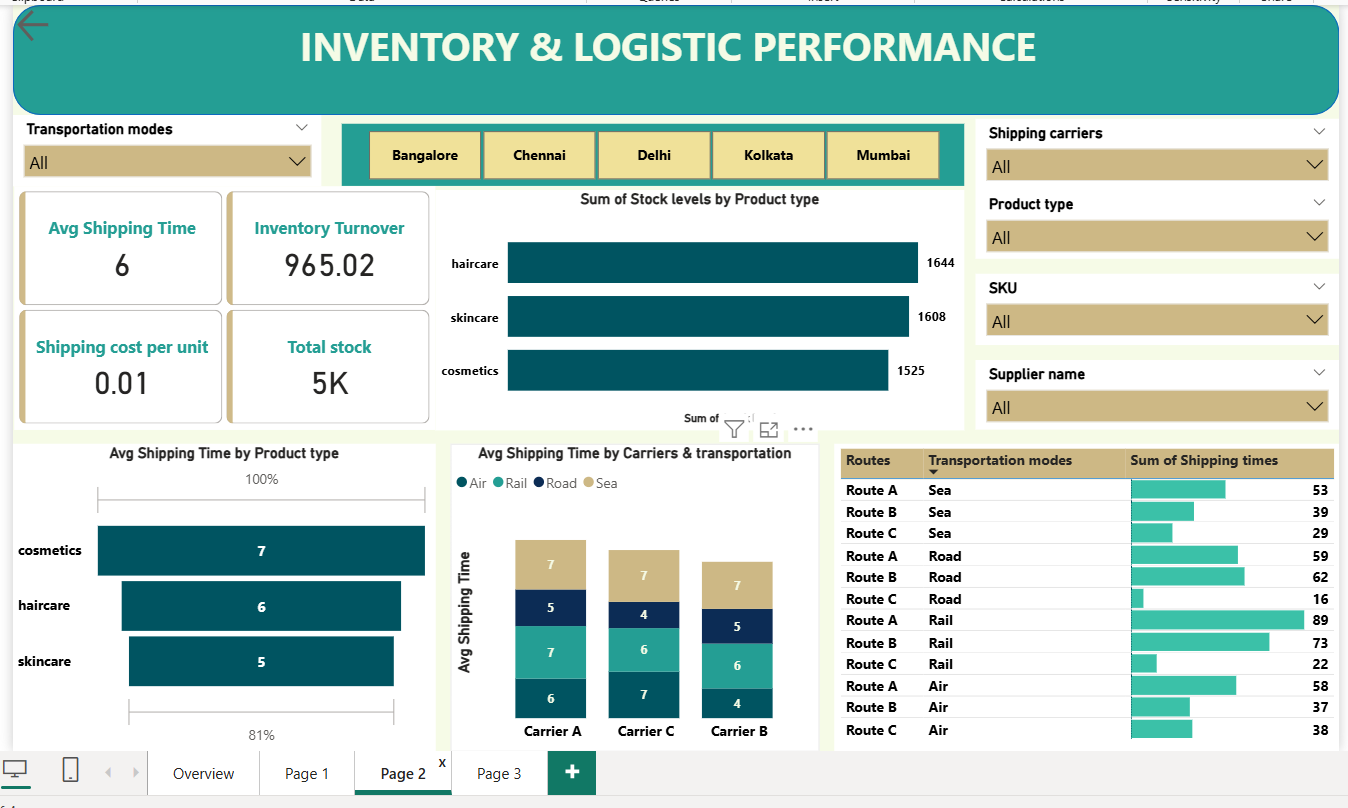

The page's visual inventory and layout, read from the dashboard file:
{"tool":"powerbi","page":{"name":"Page 2","canvas":[1280,720],"ordinal":2},"visuals":[{"type":"barChart","fields":{"Category":["supply chain data.Product type"],"Y":["Sum(supply chain data.Stock levels)"]},"box":[407.8,178.6,510.3,231.6],"z":0},{"type":"funnel","fields":{"Category":["supply chain data.Product type"],"Y":["Page 2.Avg Shipping Time"]},"box":[0,423.5,407.8,296.8],"z":1000},{"type":"columnChart","title":"Avg Shipping Time by Carriers & transportation","fields":{"Category":["supply chain data.Shipping carriers"],"Y":["Page 2.Avg Shipping Time"],"Series":["supply chain data.Transportation modes"]},"box":[422.3,423.5,355.9,296.8],"z":2000},{"type":"tableEx","fields":{"Values":["supply chain data.Routes","supply chain data.Transportation modes","Sum(supply chain data.Shipping times)"]},"box":[792.6,423.5,487.4,296.8],"z":3000},{"type":"cardVisual","fields":{"Data":["Page 2.Avg Shipping Time","Page 2.Inventory Turnover","Page 2.Shipping cost per unit","Page 2.Total stock"]},"box":[1.2,174.9,406.6,235.3],"z":4000},{"type":"shape","title":"IN","box":[0,0,1280,106.2],"z":5000},{"type":"textbox","box":[100.1,9.7,1064.1,76],"z":6000},{"type":"slicer","fields":{"Values":["supply chain data.Product type"]},"box":[929,178.6,351.1,66.4],"z":7000},{"type":"slicer","fields":{"Values":["supply chain data.SKU"]},"box":[929,259.4,351.1,68.8],"z":8000},{"type":"slicer","fields":{"Values":["supply chain data.Supplier name"]},"box":[929,342.6,351.1,67.6],"z":9000},{"type":"slicer","fields":{"Values":["supply chain data.Location"]},"box":[317.3,114.6,600.8,60.3],"z":10000},{"type":"slicer","fields":{"Values":["supply chain data.Transportation modes"]},"box":[0,106.2,298,68.8],"z":11000},{"type":"slicer","fields":{"Values":["supply chain data.Shipping carriers"]},"box":[929,109.8,351.1,68.8],"z":12000},{"type":"actionButton","box":[0,0,100,40],"z":13000}]}

Visuals, with their boxes on the page's 1280x720 design canvas (x1, y1, x2, y2). These are canvas units, not pixel positions in the 1348x808 screenshot, which may show the page scaled, cropped or inside an application window:
barChart - supply chain data.Product type x Sum(supply chain data.Stock levels): [left=408, top=179, right=918, bottom=410]
funnel - supply chain data.Product type x Page 2.Avg Shipping Time: [left=0, top=424, right=408, bottom=720]
"Avg Shipping Time by Carriers & transportation" columnChart: [left=422, top=424, right=778, bottom=720]
tableEx - supply chain data.Routes x supply chain data.Transportation modes: [left=793, top=424, right=1280, bottom=720]
cardVisual - Page 2.Avg Shipping Time x Page 2.Inventory Turnover: [left=1, top=175, right=408, bottom=410]
"IN" shape: [left=0, top=0, right=1280, bottom=106]
textbox: [left=100, top=10, right=1164, bottom=86]
slicer - supply chain data.Product type: [left=929, top=179, right=1280, bottom=245]
slicer - supply chain data.SKU: [left=929, top=259, right=1280, bottom=328]
slicer - supply chain data.Supplier name: [left=929, top=343, right=1280, bottom=410]
slicer - supply chain data.Location: [left=317, top=115, right=918, bottom=175]
slicer - supply chain data.Transportation modes: [left=0, top=106, right=298, bottom=175]
slicer - supply chain data.Shipping carriers: [left=929, top=110, right=1280, bottom=179]
actionButton: [left=0, top=0, right=100, bottom=40]
